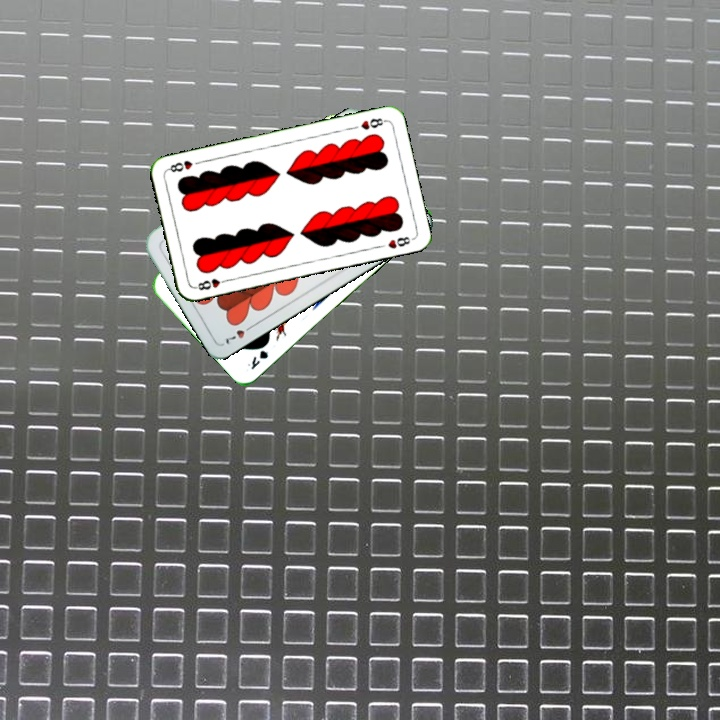GK: (243, 346, 271, 372)
H7: (221, 320, 257, 348)
H8: (191, 274, 231, 293), (357, 114, 388, 132)
